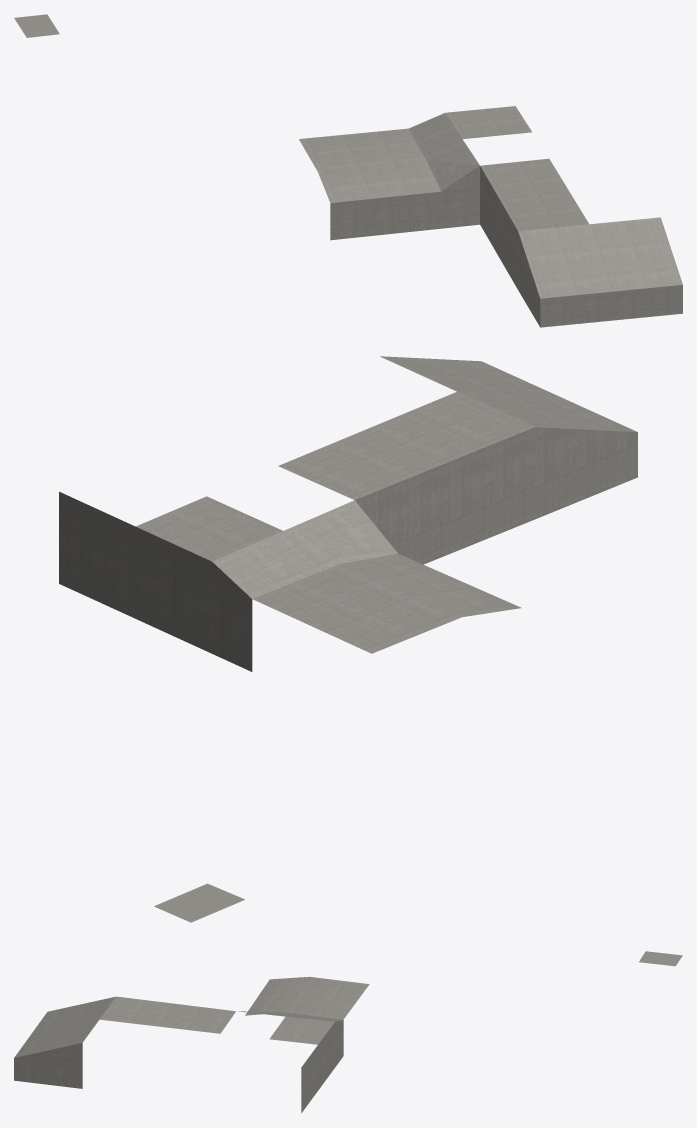
File: kd_stage_1366d7_4_9.glb
The picture shows the model from 3 angles, top to bottom: view 1: azimuth 30°, elevation 25°; view 2: azimuth 150°, elevation 25°; view 3: azimuth 270°, elevation 25°; orthographic projection. The views are drawn at different scales.
Parts seen in each view (by area): view 1: kd_stage_1366d7_4_9; view 2: kd_stage_1366d7_4_9; view 3: kd_stage_1366d7_4_9.
Boxes of the visible parts, x1,y1,x2,y2 form: kd_stage_1366d7_4_9: [14, 14, 682, 327]; kd_stage_1366d7_4_9: [59, 356, 637, 922]; kd_stage_1366d7_4_9: [14, 951, 682, 1112].
Bounding box in the file's own units: 196 × 32.51 × 427.
1 material, 1 textured.
